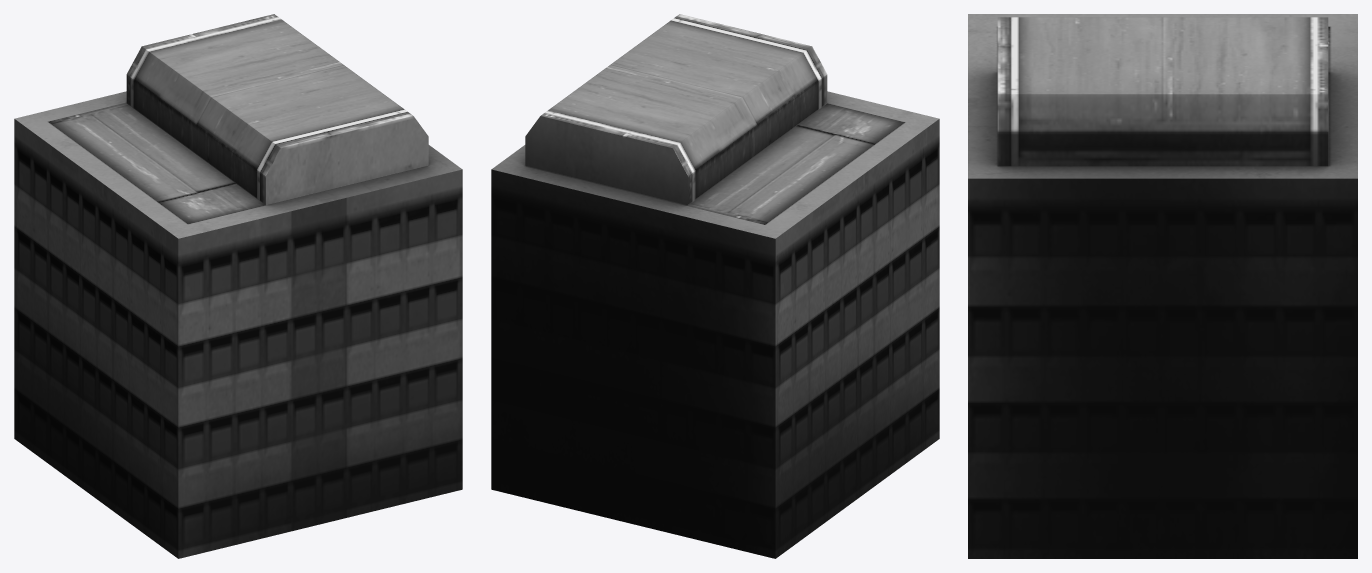
Rendered from SmallBld4.DAE.
3 views of the same model, side by side, from view 1: azimuth 30°, elevation 25°; view 2: azimuth 150°, elevation 25°; view 3: azimuth 270°, elevation 25° (orthographic). The views are drawn at different scales.
Parts seen in each view (by area): view 1: SmallBld4-Pivot; view 2: SmallBld4-Pivot; view 3: SmallBld4-Pivot.
Part boxes in pixels (box(x1,y1,x2,y2)): SmallBld4-Pivot: box(14, 14, 462, 558); SmallBld4-Pivot: box(491, 14, 939, 558); SmallBld4-Pivot: box(968, 14, 1357, 558).
Bounding box in the file's own units: 26.78 × 26.78 × 33.64.
